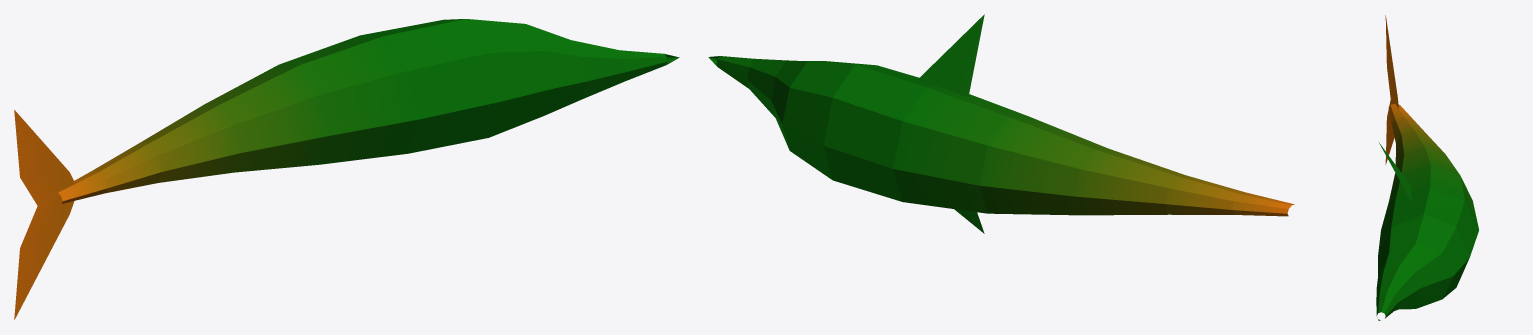
File: dolphin_b.glb
3 renders of one model, left to right at view 1: azimuth 30°, elevation 25°; view 2: azimuth 150°, elevation 25°; view 3: azimuth 270°, elevation 25°, orthographic. The views are drawn at different scales.
Parts seen in each view (by area): view 1: dolphin_b; view 2: dolphin_b; view 3: dolphin_b.
Boxes of the visible parts, x1,y1,x2,y2 form: dolphin_b: (14, 19, 679, 319); dolphin_b: (708, 14, 1294, 233); dolphin_b: (1376, 15, 1478, 320).
Bounding box in the file's own units: 1.96 × 0.64 × 0.5098.
